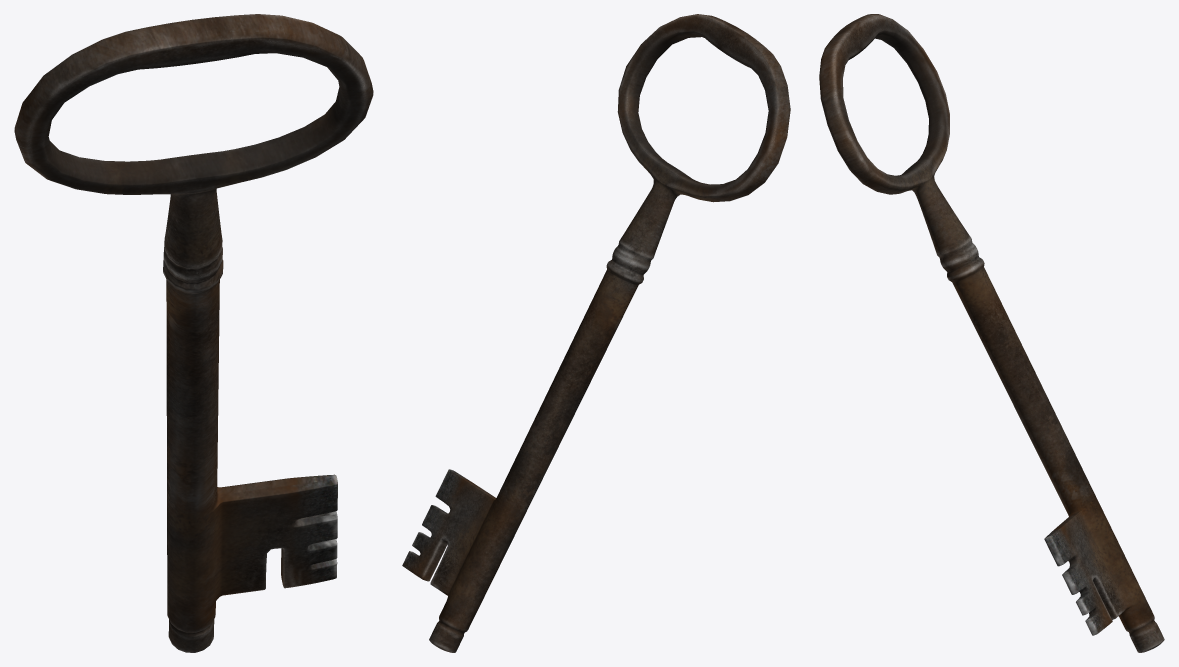
The model's file is key.obj.
3 renders of one model, left to right at view 1: azimuth 30°, elevation 25°; view 2: azimuth 150°, elevation 25°; view 3: azimuth 270°, elevation 25°, orthographic. The views are drawn at different scales.
Parts seen in each view (by area): view 1: Object_2; view 2: Object_2; view 3: Object_2.
Part boxes in pixels (left/top/right/bottom): Object_2: left=14, top=14, right=373, bottom=652; Object_2: left=402, top=14, right=790, bottom=652; Object_2: left=819, top=14, right=1164, bottom=652.
Size of the model in its own units: 0.6561 by 1.18 by 0.6638.
1 material, 1 textured.
